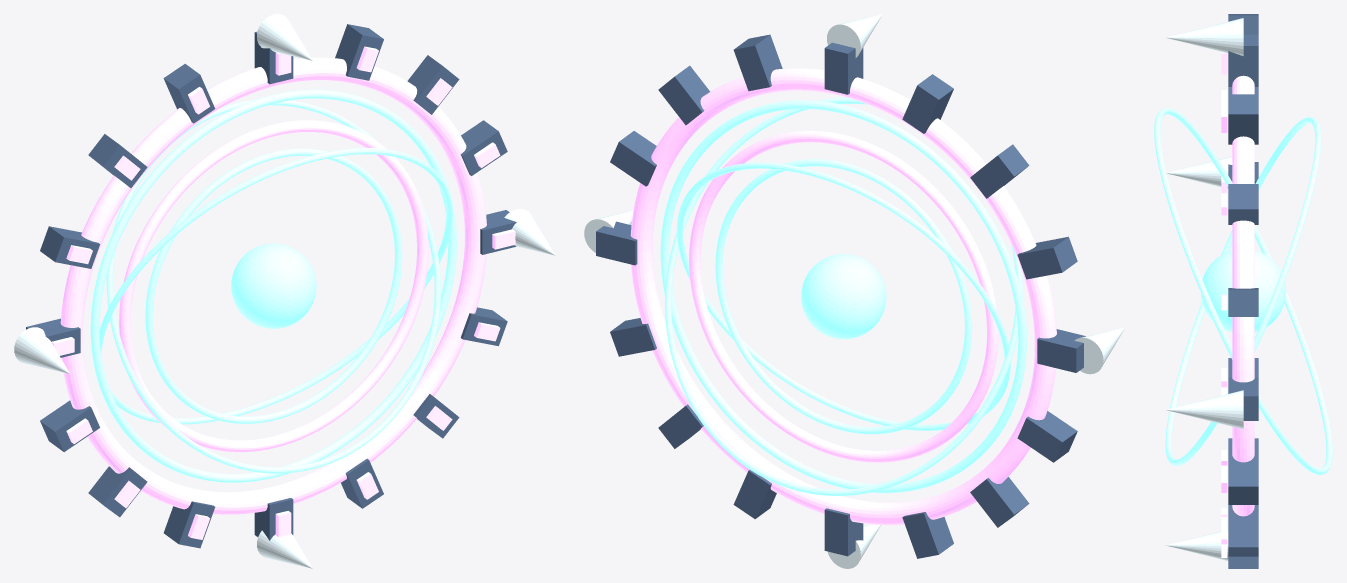
The model's file is portal_astral_nexus.glb.
3 renders of one model, left to right at view 1: azimuth 30°, elevation 25°; view 2: azimuth 150°, elevation 25°; view 3: azimuth 270°, elevation 25°, orthographic.
Parts seen in each view (by area): view 1: ring_0, ring_2, ring_1, ring_3, reactor_core, tilted_rune_ring_1, tilted_rune_ring_0, anchor_3, anchor_0, rune_frame_11, rune_frame_1, rune_frame_15 (+15 smaller); view 2: ring_0, ring_2, ring_1, ring_3, reactor_core, tilted_rune_ring_0, tilted_rune_ring_1, rune_frame_11, rune_frame_1, rune_frame_15, rune_frame_13, rune_frame_10 (+15 smaller); view 3: ring_0, tilted_rune_ring_0, tilted_rune_ring_1, reactor_core, anchor_1, anchor_0, rune_frame_5, rune_frame_1, rune_frame_6, rune_frame_2, rune_frame_0, anchor_2 (+5 smaller).
Boxes of the visible parts, x1,y1,x2,y2 form: ring_0: [60, 57, 486, 514]; ring_2: [119, 120, 428, 452]; ring_1: [90, 89, 456, 482]; ring_3: [145, 148, 402, 423]; reactor_core: [231, 243, 316, 328]; tilted_rune_ring_1: [106, 99, 440, 473]; tilted_rune_ring_0: [99, 148, 452, 424]; anchor_3: [14, 327, 69, 373]; anchor_0: [257, 14, 312, 60]; rune_frame_11: [40, 400, 99, 451]; rune_frame_1: [335, 24, 383, 80]; rune_frame_15: [163, 64, 215, 123]; ring_0: [630, 68, 1056, 525]; ring_2: [689, 130, 998, 462]; ring_1: [660, 100, 1026, 493]; ring_3: [715, 159, 972, 434]; reactor_core: [801, 254, 886, 339]; tilted_rune_ring_0: [665, 97, 1022, 495]; tilted_rune_ring_1: [676, 162, 1010, 430]; rune_frame_11: [1017, 411, 1077, 462]; rune_frame_1: [733, 34, 782, 91]; rune_frame_15: [902, 74, 953, 133]; rune_frame_13: [1017, 236, 1077, 279]; rune_frame_10: [970, 477, 1029, 527]; ring_0: [1232, 75, 1254, 516]; tilted_rune_ring_0: [1154, 108, 1332, 474]; tilted_rune_ring_1: [1165, 117, 1321, 465]; reactor_core: [1201, 250, 1286, 332]; anchor_1: [1165, 390, 1243, 429]; anchor_0: [1165, 18, 1243, 55]; rune_frame_5: [1228, 453, 1258, 504]; rune_frame_1: [1228, 94, 1258, 144]; rune_frame_6: [1228, 505, 1258, 556]; rune_frame_2: [1228, 184, 1258, 224]; rune_frame_0: [1228, 34, 1258, 86]; anchor_2: [1165, 529, 1228, 560].
Size of the model in its own units: 12.2 by 12.2 by 3.64.
